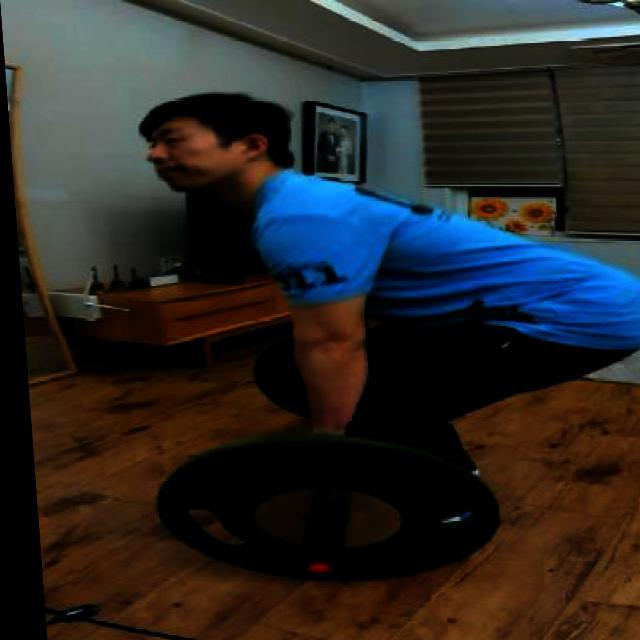barbell: (138, 429, 497, 587)
